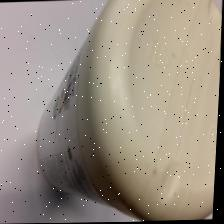plastic: (37, 0, 222, 221)
